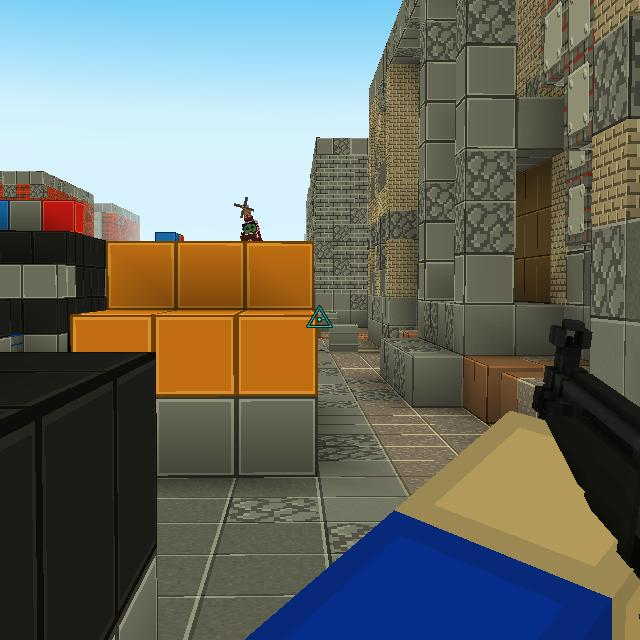enemy: (233, 195, 263, 241)
